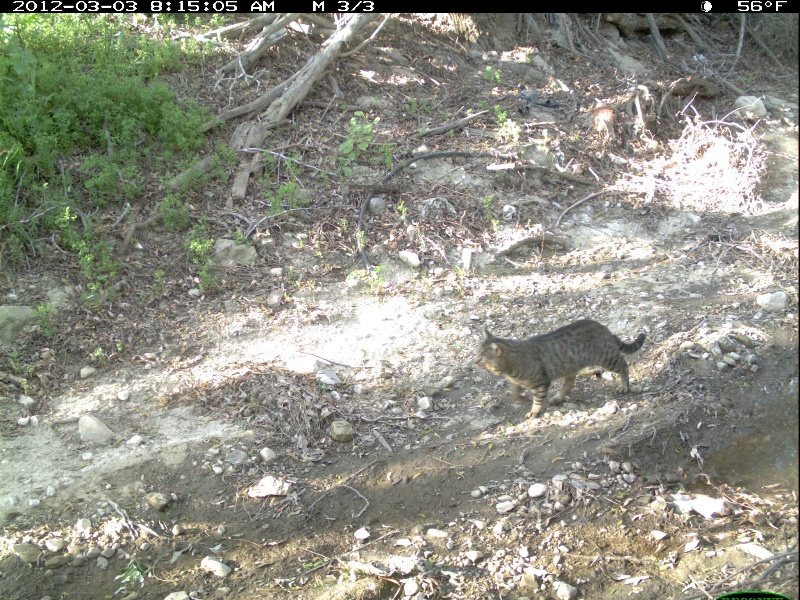cat: (476, 319, 647, 422)
